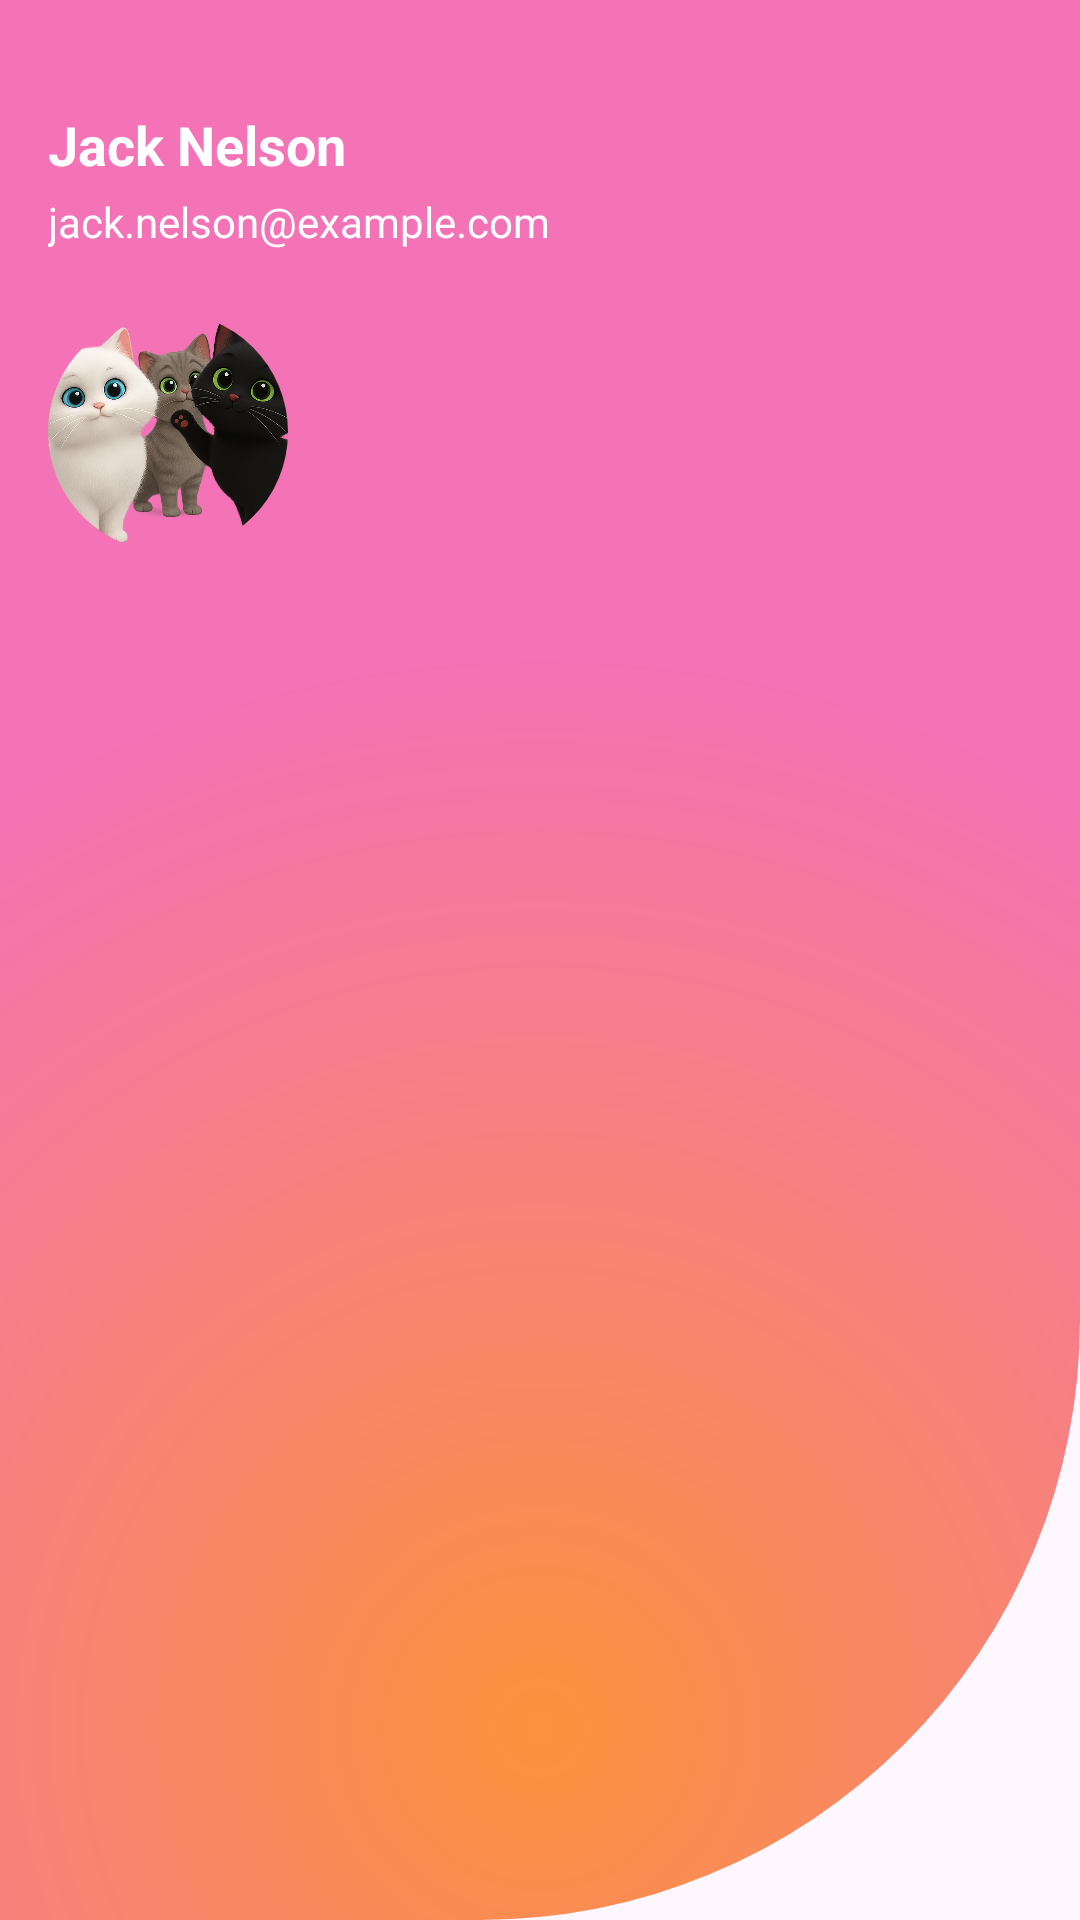

Icons on this 1080 × 1920 Android screen, each with the point to tap as point (x, y):
ai cat: point (168, 433)
